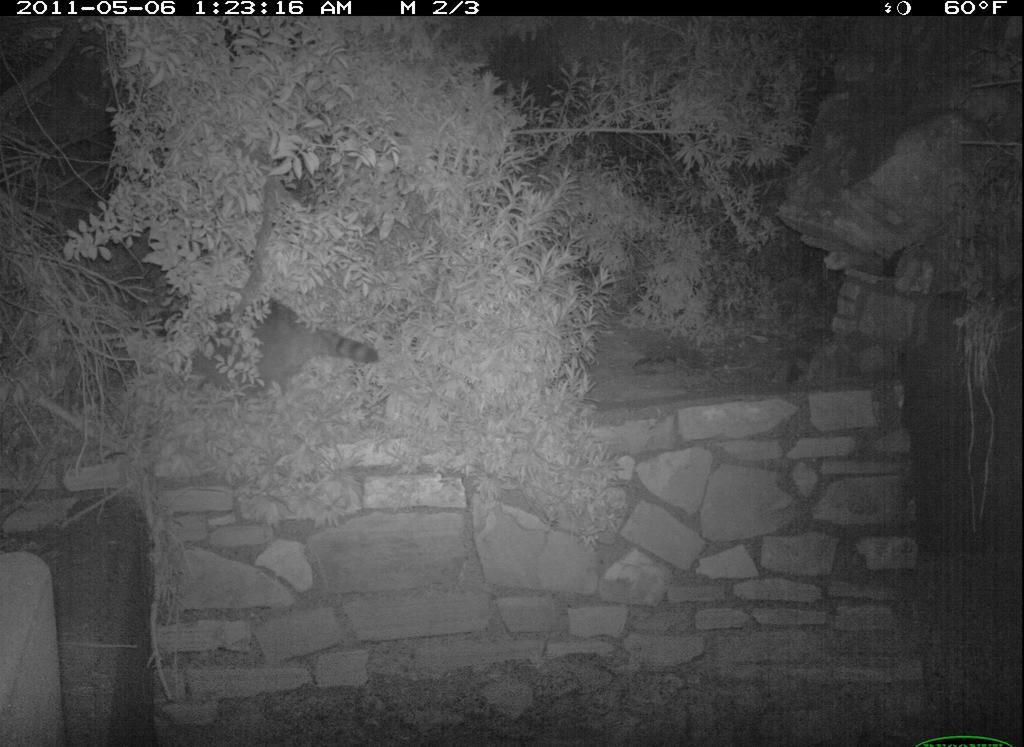raccoon: (144, 294, 388, 414)
